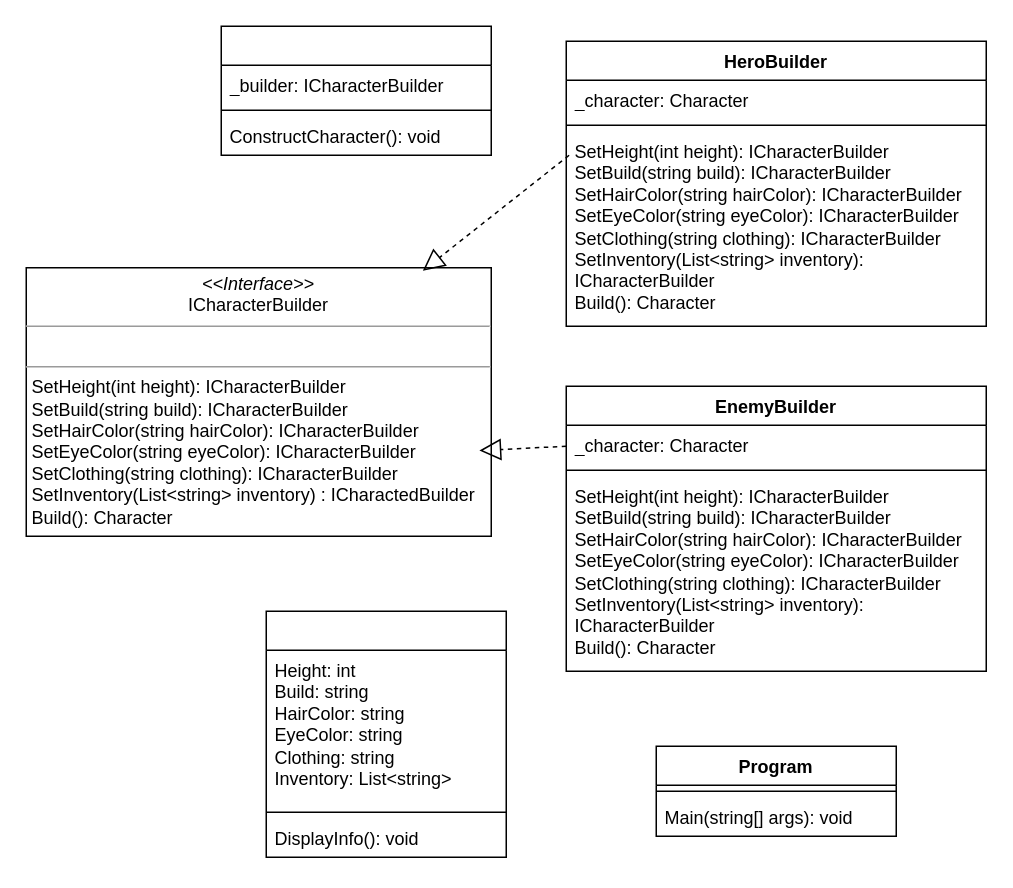
This 1013x888 diagram has some shape labels left out. Here are the shapes that lost their labels. From the top down, the box of each, then its label:
(220, 25, 491, 155): CharacterDirector
(265, 610, 506, 857): Character
